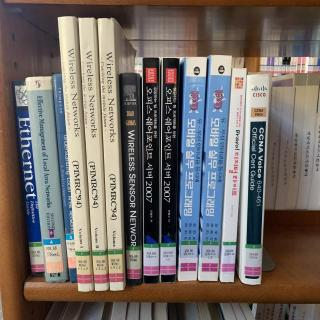book-spine: (57, 15, 94, 292), (25, 75, 70, 284), (78, 17, 108, 291), (197, 54, 233, 282), (98, 18, 125, 291), (176, 56, 207, 282), (11, 80, 45, 278), (238, 73, 269, 285), (220, 67, 247, 283), (52, 74, 77, 283), (120, 72, 142, 285), (159, 58, 179, 283), (142, 58, 159, 283)
